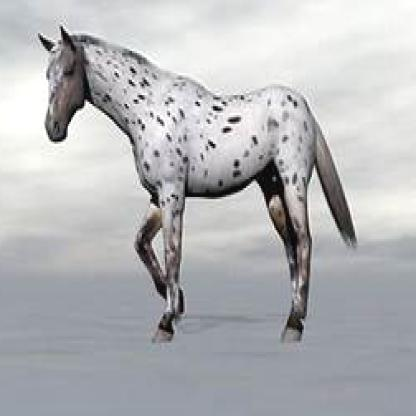horse: (38, 25, 358, 338)
